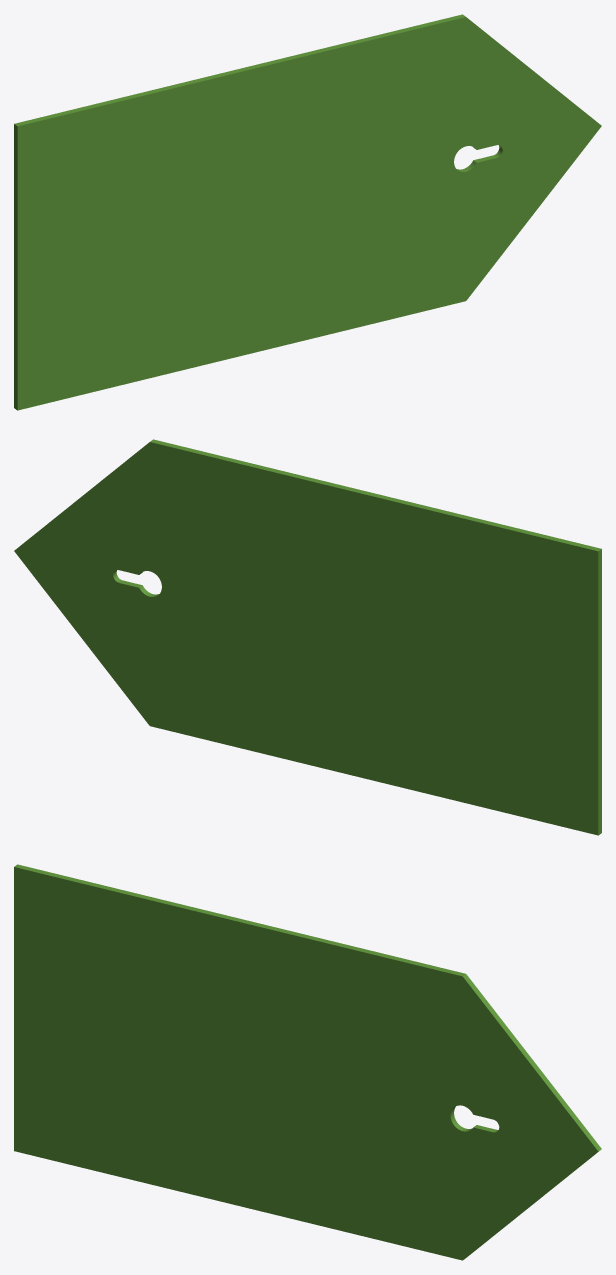
File: black_part.obj
The picture shows the model from 3 angles, top to bottom: view 1: azimuth 30°, elevation 25°; view 2: azimuth 150°, elevation 25°; view 3: azimuth 330°, elevation 25°; orthographic projection.
Visible parts, largest first — view 1: black_part; view 2: black_part; view 3: black_part.
Boxes of the visible parts, left/top/right/bottom form: black_part: left=14, top=14, right=601, bottom=410; black_part: left=14, top=439, right=601, bottom=835; black_part: left=14, top=864, right=601, bottom=1260.
Bounding box in the file's own units: 0.24 × 0.1115 × 0.0025.
